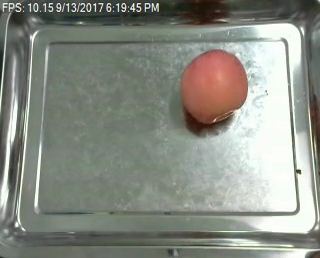Apple: (175, 50, 253, 125)
